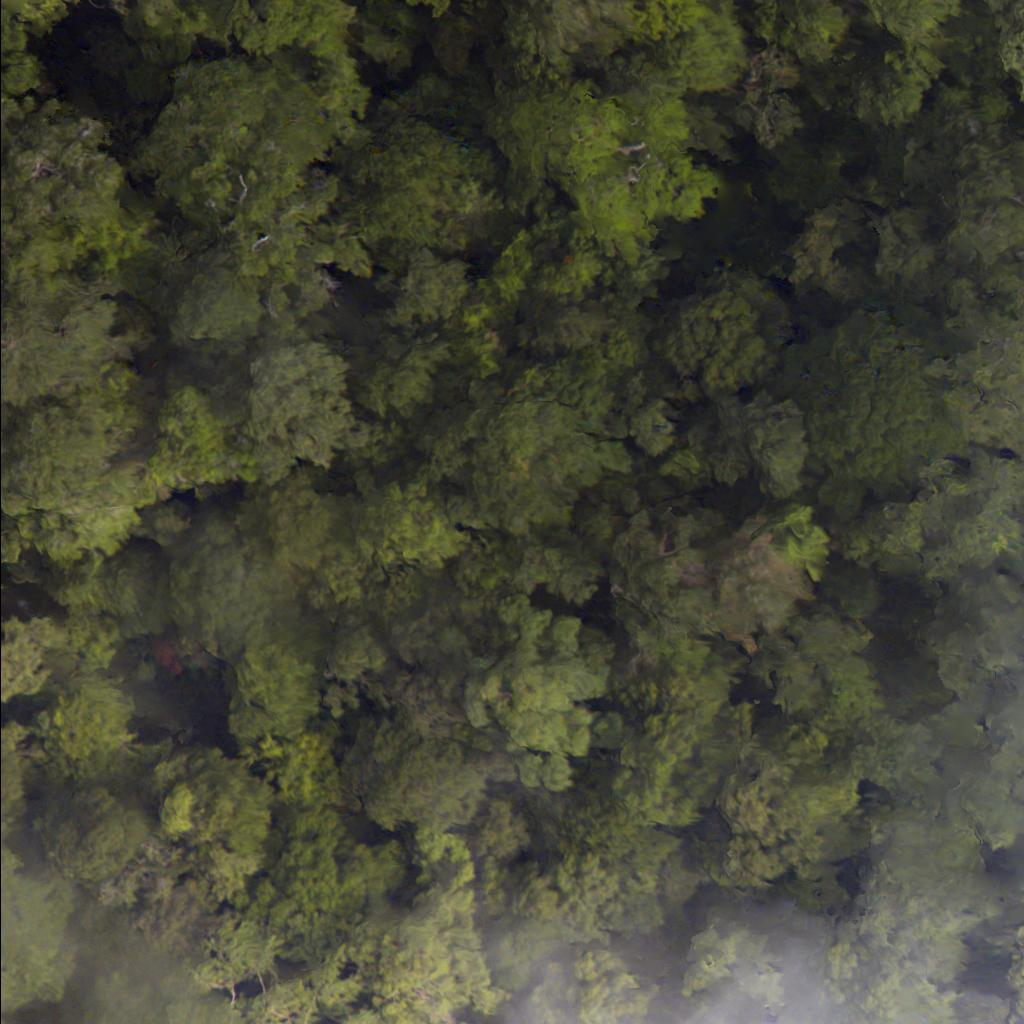crown: (127, 60, 343, 253), (225, 342, 367, 469), (0, 92, 130, 226), (0, 281, 131, 403), (169, 247, 275, 341)
